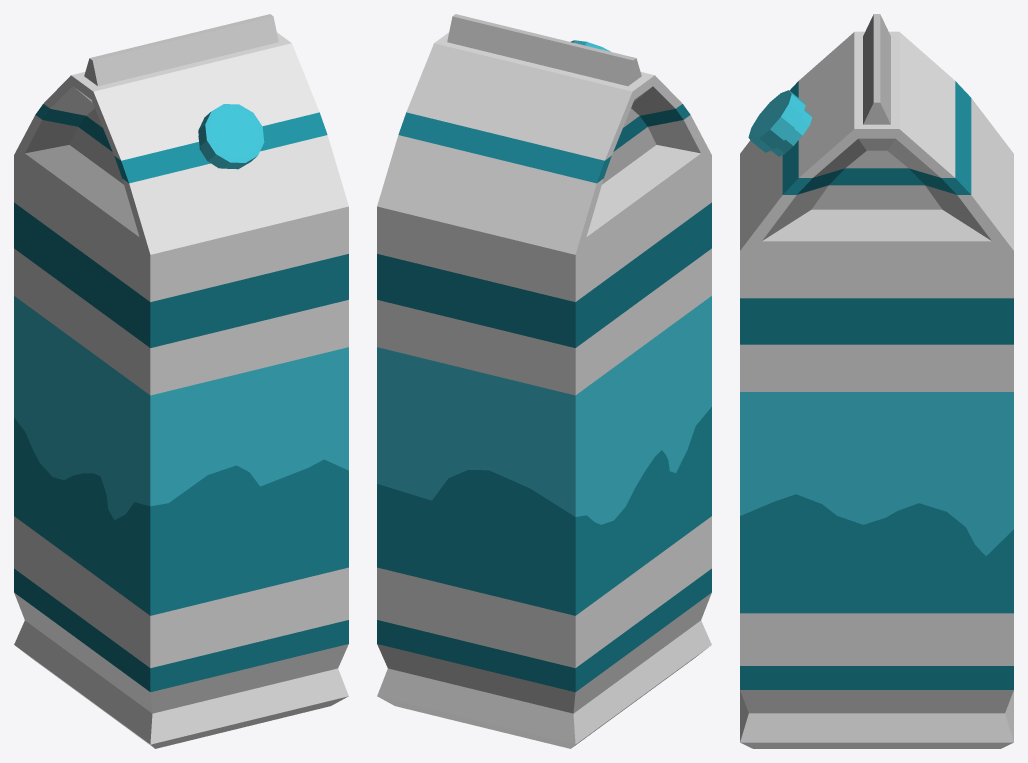
The model's file is mesh_milk.fbx.
The picture shows the model from 3 angles, left to right: view 1: azimuth 30°, elevation 25°; view 2: azimuth 150°, elevation 25°; view 3: azimuth 270°, elevation 25°; orthographic projection.
Visible parts, largest first — view 1: mesh_milk; view 2: mesh_milk; view 3: mesh_milk.
Part boxes in pixels (<box>): mesh_milk: <box>14,14,348,748</box>; mesh_milk: <box>377,14,711,748</box>; mesh_milk: <box>740,14,1013,748</box>.
Size of the model in its own units: 0.2 by 0.6212 by 0.2381.
